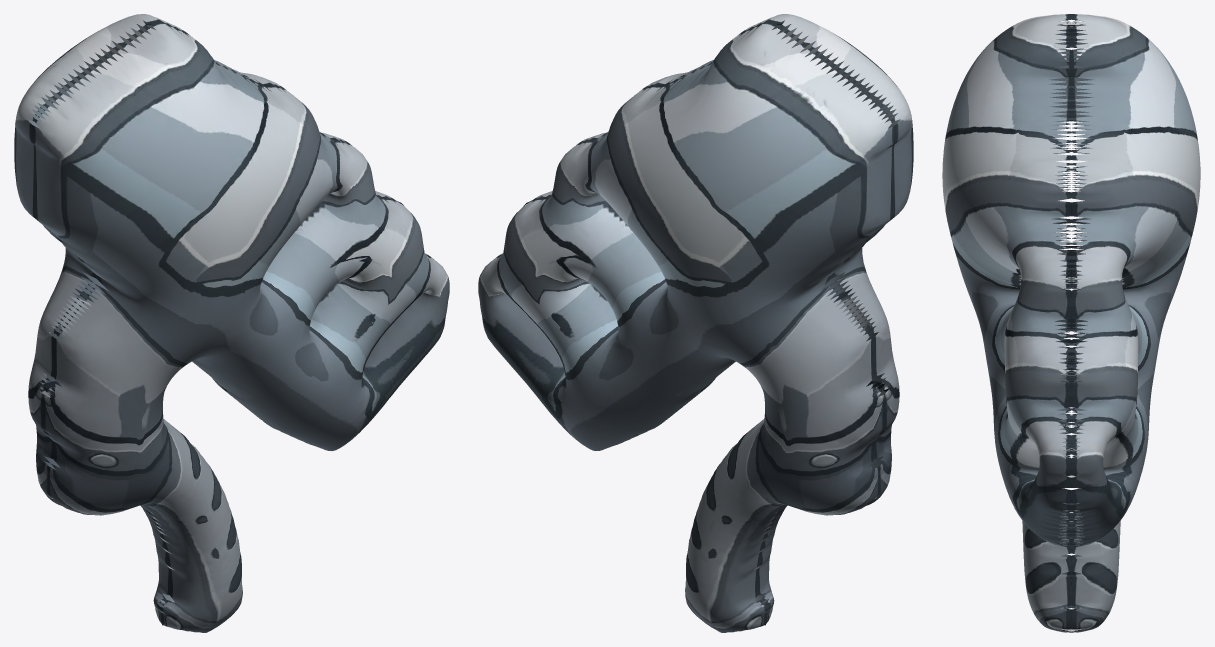
Rendered from ribbed_duct.glb.
3 views of the same model, side by side, from view 1: azimuth 30°, elevation 25°; view 2: azimuth 150°, elevation 25°; view 3: azimuth 270°, elevation 25° (orthographic). The views are drawn at different scales.
Visible parts, largest first — view 1: ribbed_duct; view 2: ribbed_duct; view 3: ribbed_duct.
Boxes of the visible parts, x1,y1,x2,y2 form: ribbed_duct: [14, 14, 449, 632]; ribbed_duct: [478, 14, 913, 632]; ribbed_duct: [942, 14, 1200, 632].
Bounding box in the file's own units: 0.9841 × 1.41 × 0.5537.
1 material, 1 textured.
